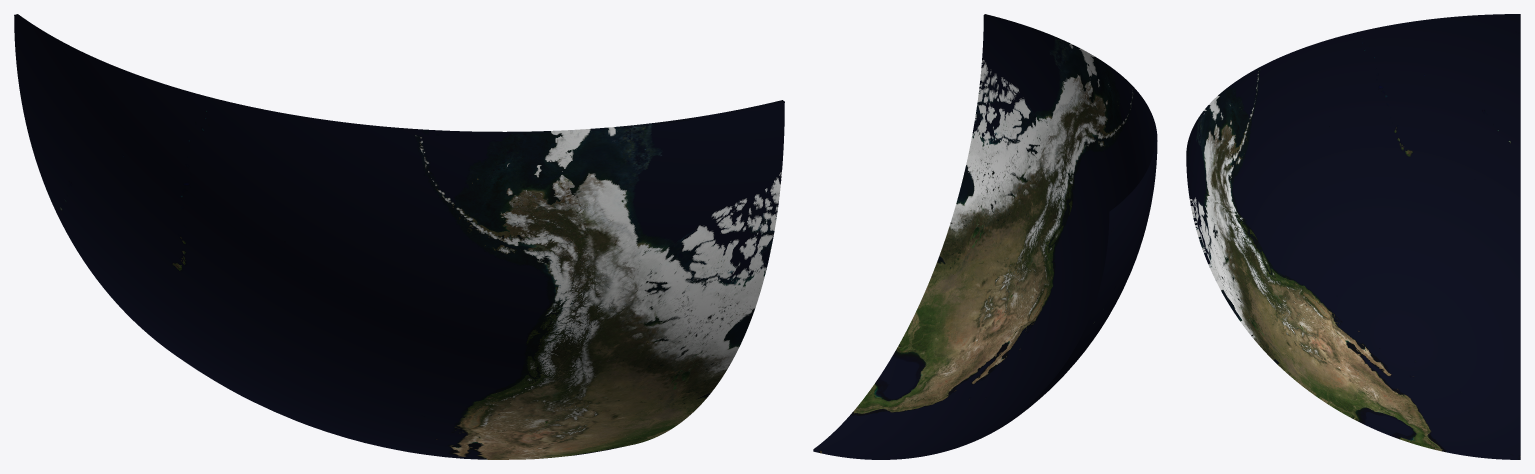
The picture shows the model from 3 angles, left to right: view 1: azimuth 30°, elevation 25°; view 2: azimuth 150°, elevation 25°; view 3: azimuth 270°, elevation 25°; orthographic projection. The views are drawn at different scales.
Visible parts, largest first — view 1: DefaultName.002, DefaultName.011, DefaultName.008, DefaultName.005; view 2: DefaultName.005, DefaultName.008, DefaultName.011, DefaultName.002; view 3: DefaultName.002, DefaultName.005, DefaultName.011, DefaultName.008.
Part boxes in pixels (bbox=[...]): DefaultName.002: bbox=[14, 14, 456, 387]; DefaultName.011: bbox=[355, 100, 784, 356]; DefaultName.008: bbox=[457, 102, 784, 413]; DefaultName.005: bbox=[160, 344, 701, 459]; DefaultName.005: bbox=[813, 243, 1085, 459]; DefaultName.008: bbox=[934, 15, 1083, 277]; DefaultName.011: bbox=[984, 14, 1145, 240]; DefaultName.002: bbox=[1023, 102, 1157, 411]; DefaultName.002: bbox=[1285, 14, 1520, 270]; DefaultName.005: bbox=[1284, 237, 1520, 459]; DefaultName.011: bbox=[1186, 55, 1286, 236]; DefaultName.008: bbox=[1186, 156, 1286, 370].
Bounding box in the file's own units: 63781 × 63781 × 63568.
Materials: 4 (4 with a texture image).
